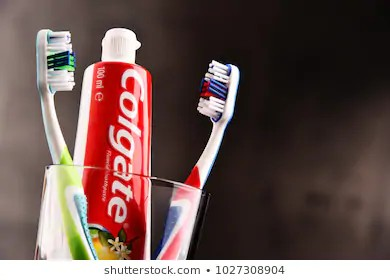toothbrush: (12, 23, 106, 169), (159, 55, 253, 201)
